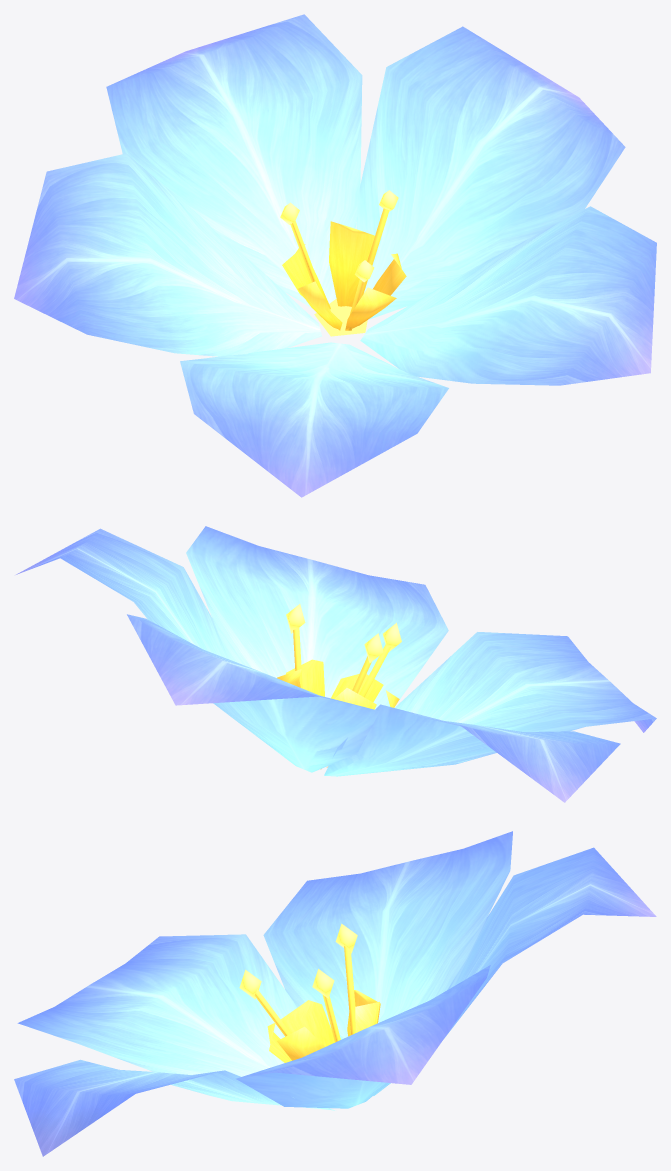
The model's file is Flower2_edfb2c10.fbx.
3 renders of one model, top to bottom at view 1: azimuth 30°, elevation 25°; view 2: azimuth 150°, elevation 25°; view 3: azimuth 270°, elevation 25°, orthographic. The views are drawn at different scales.
Parts seen in each view (by area): view 1: MoonBell_Low; view 2: MoonBell_Low; view 3: MoonBell_Low.
Boxes of the visible parts, x1,y1,x2,y2 form: MoonBell_Low: (14, 14, 656, 497); MoonBell_Low: (16, 526, 656, 802); MoonBell_Low: (14, 831, 656, 1156).
Size of the model in its own units: 96.06 by 39.62 by 93.24.
